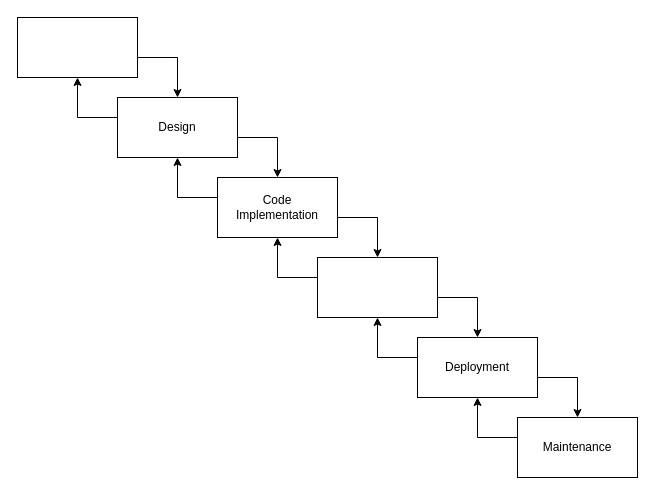
This 655x495 diagram has some shape labels left out. The shapes that lost their labels are listed below. From the top down, each one's box as (x1, y1, x2, y2) in pixels, then its label:
(16, 16, 138, 78): Requirements Analysis
(316, 256, 438, 318): Testing
